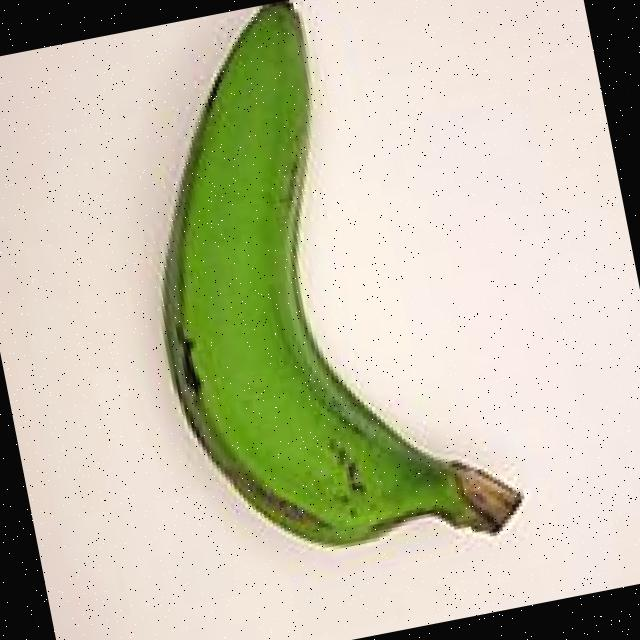Raw: (74, 0, 565, 639)
